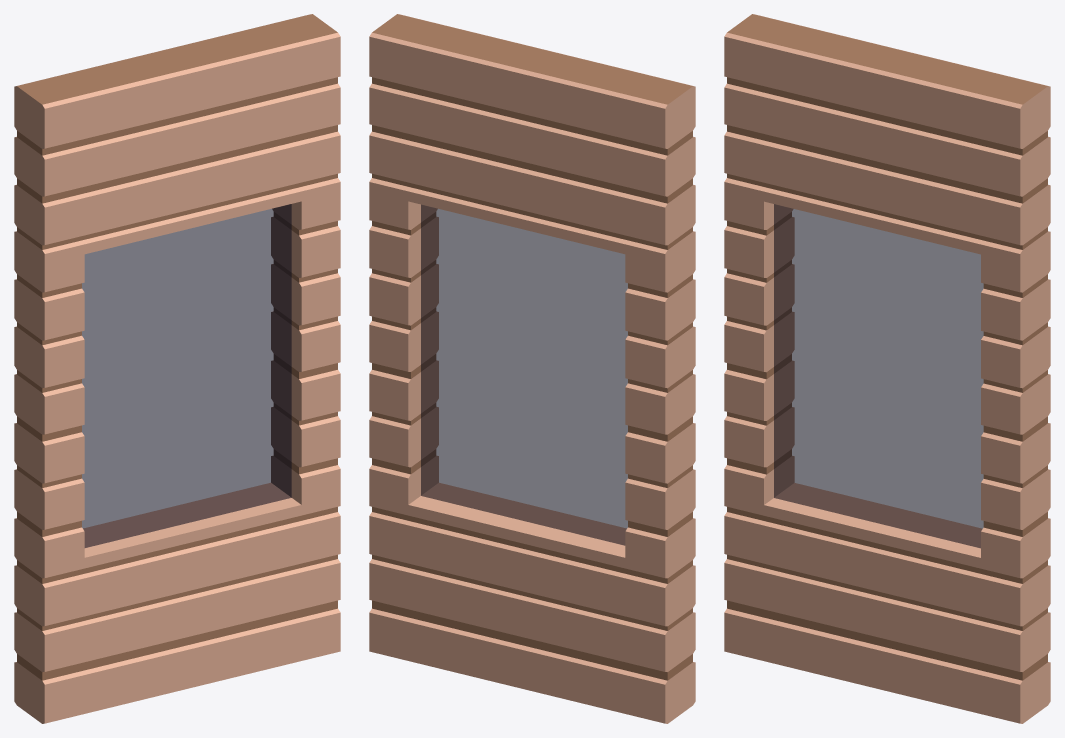
File: HorizontalBoardWindow.glb
3 views of the same model, side by side, from view 1: azimuth 30°, elevation 25°; view 2: azimuth 150°, elevation 25°; view 3: azimuth 330°, elevation 25° (orthographic).
Visible parts, largest first — view 1: wall_horizontalBoard_window; view 2: wall_horizontalBoard_window; view 3: wall_horizontalBoard_window.
Boxes of the visible parts, x1=… form: wall_horizontalBoard_window: x1=14, y1=14, x2=340, y2=723; wall_horizontalBoard_window: x1=369, y1=14, x2=695, y2=723; wall_horizontalBoard_window: x1=724, y1=14, x2=1050, y2=723.
Size of what is drawn, in the model's own units: 2 by 4 by 0.3569.
Materials: 2 (2 with a texture image).
